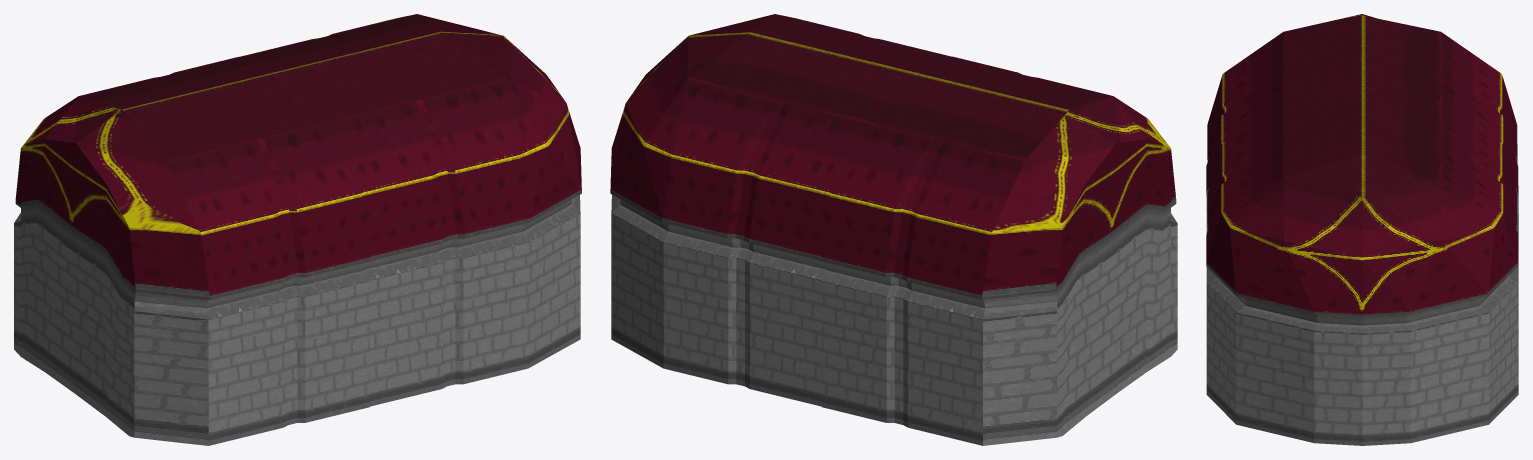
Rendered from manor_frame_3.fbx.
The picture shows the model from 3 angles, left to right: view 1: azimuth 30°, elevation 25°; view 2: azimuth 150°, elevation 25°; view 3: azimuth 270°, elevation 25°; orthographic projection. The views are drawn at different scales.
Parts seen in each view (by area): view 1: Icosphere.005; view 2: Icosphere.005; view 3: Icosphere.005.
Boxes of the visible parts, x1,y1,x2,y2 form: Icosphere.005: [14, 14, 581, 445]; Icosphere.005: [610, 14, 1177, 445]; Icosphere.005: [1206, 14, 1518, 445].
Bounding box in the file's own units: 5519 × 2985 × 3461.
